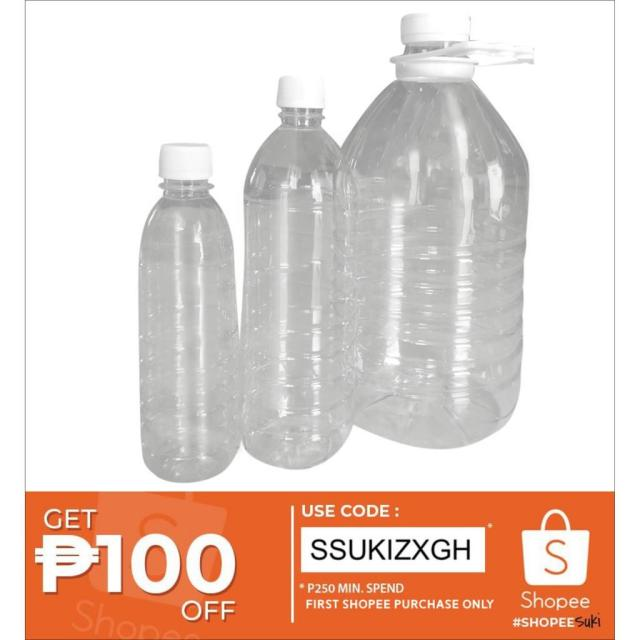plastic_bottle: (345, 5, 532, 462), (244, 65, 354, 474), (132, 116, 250, 487)
